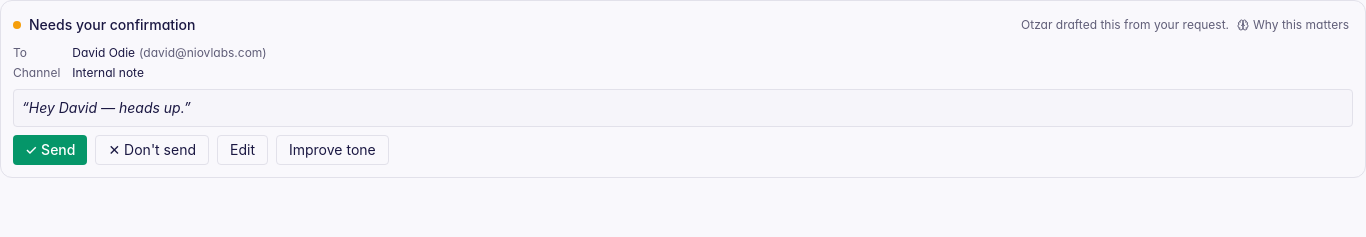
Scenario: ProposedActionCard — error state › renders an inline error when the API rejects (no terminal success card)
The image size is (1366, 237).
Click the button with test id "ctx-send-button" at [50, 150], box [13, 135, 88, 165]
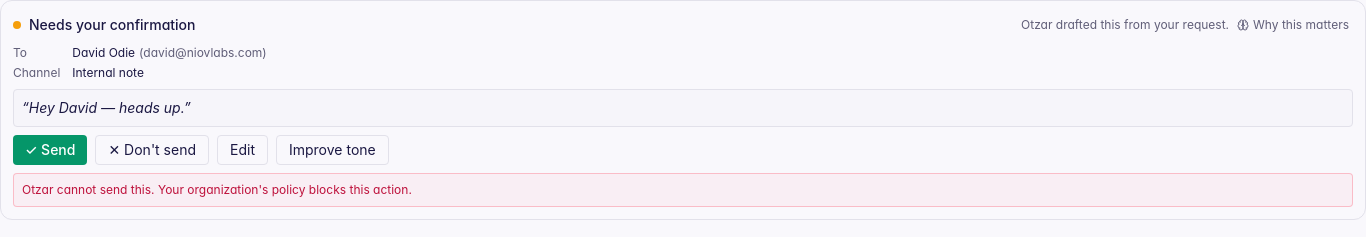
Result: the message with test id "ctx-error" shows "policy blocks" at [22, 182, 412, 197]
